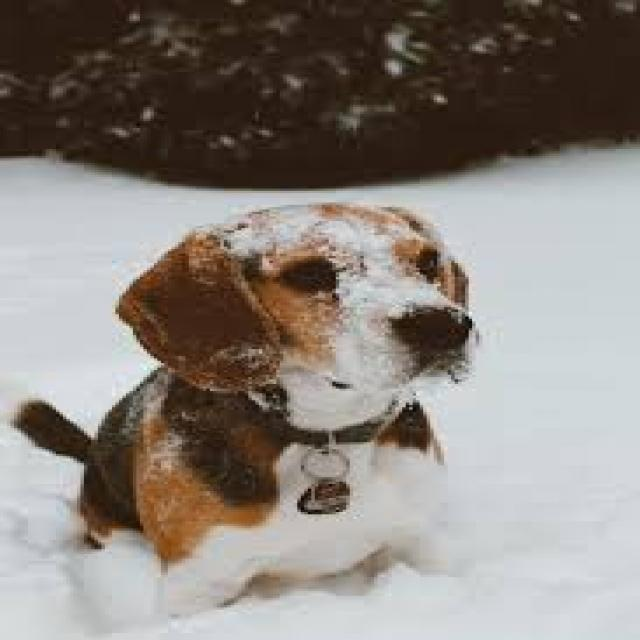Dog: (0, 198, 506, 622)
